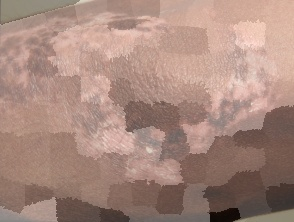vitiligo: (0, 3, 294, 192)
